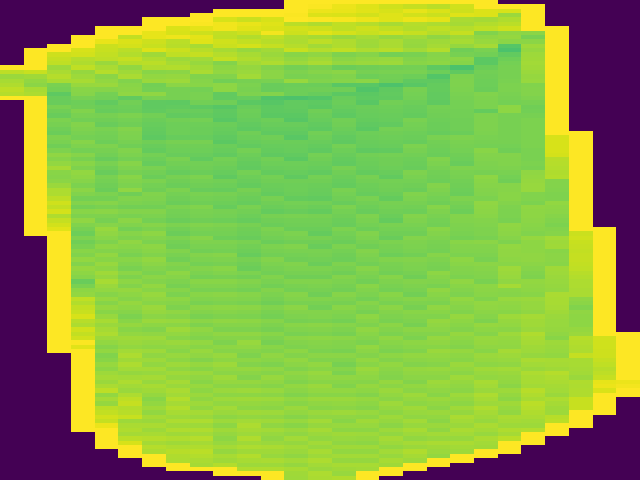cylinder: (4, 1, 640, 480)
